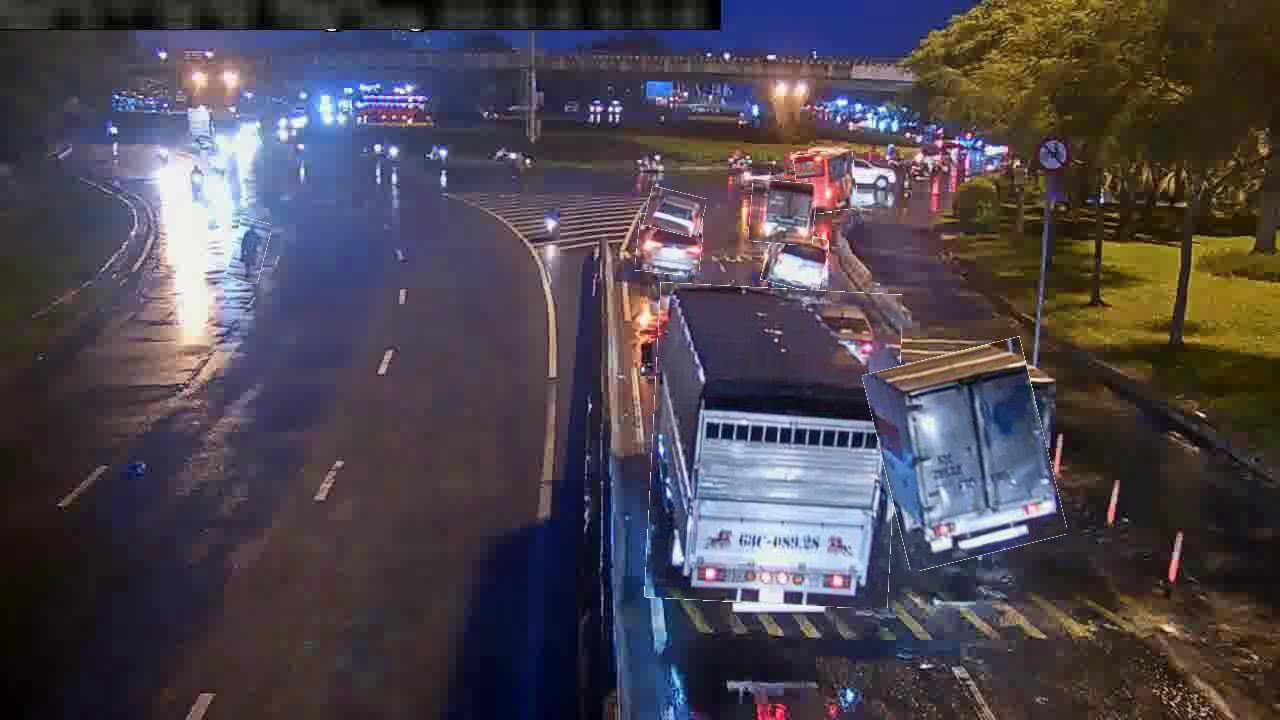14: (795, 152, 857, 214)
8: (648, 285, 899, 606), (873, 345, 1057, 564), (750, 181, 816, 245)
container: (637, 215, 703, 275), (763, 230, 828, 290), (645, 189, 705, 235)
motorbike: (230, 218, 269, 284)
